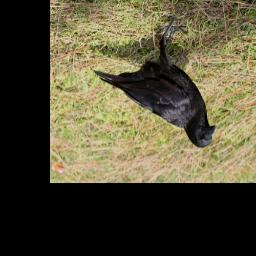Crow: (90, 13, 214, 149)
